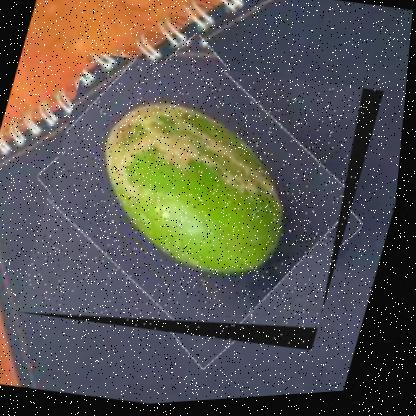orange_rotten: (17, 35, 391, 370)
